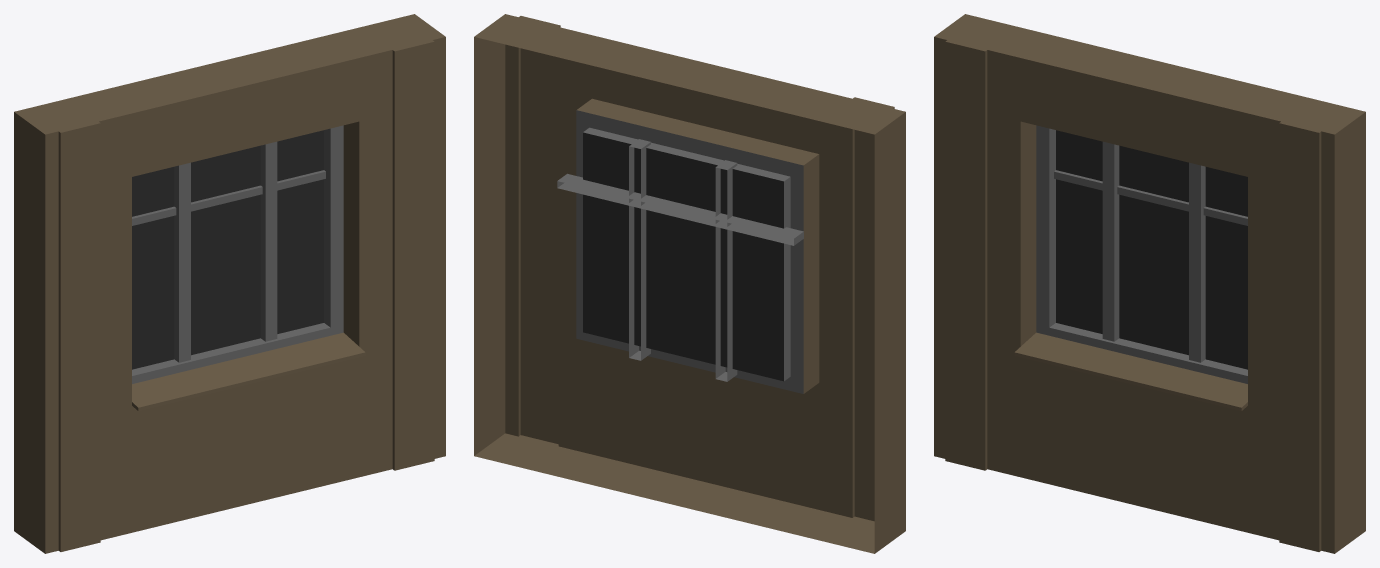
File: middle_floor_wall_03.glb
The picture shows the model from 3 angles, left to right: view 1: azimuth 30°, elevation 25°; view 2: azimuth 150°, elevation 25°; view 3: azimuth 330°, elevation 25°; orthographic projection.
Visible parts, largest first — view 1: middle_floor_wall_03; view 2: middle_floor_wall_03; view 3: middle_floor_wall_03.
Part boxes in pixels (box(x1,y1,x2,y2)): middle_floor_wall_03: box(14, 14, 445, 553); middle_floor_wall_03: box(474, 14, 905, 553); middle_floor_wall_03: box(934, 14, 1365, 553).
Bounding box in the file's own units: 3 × 3 × 0.4876.
